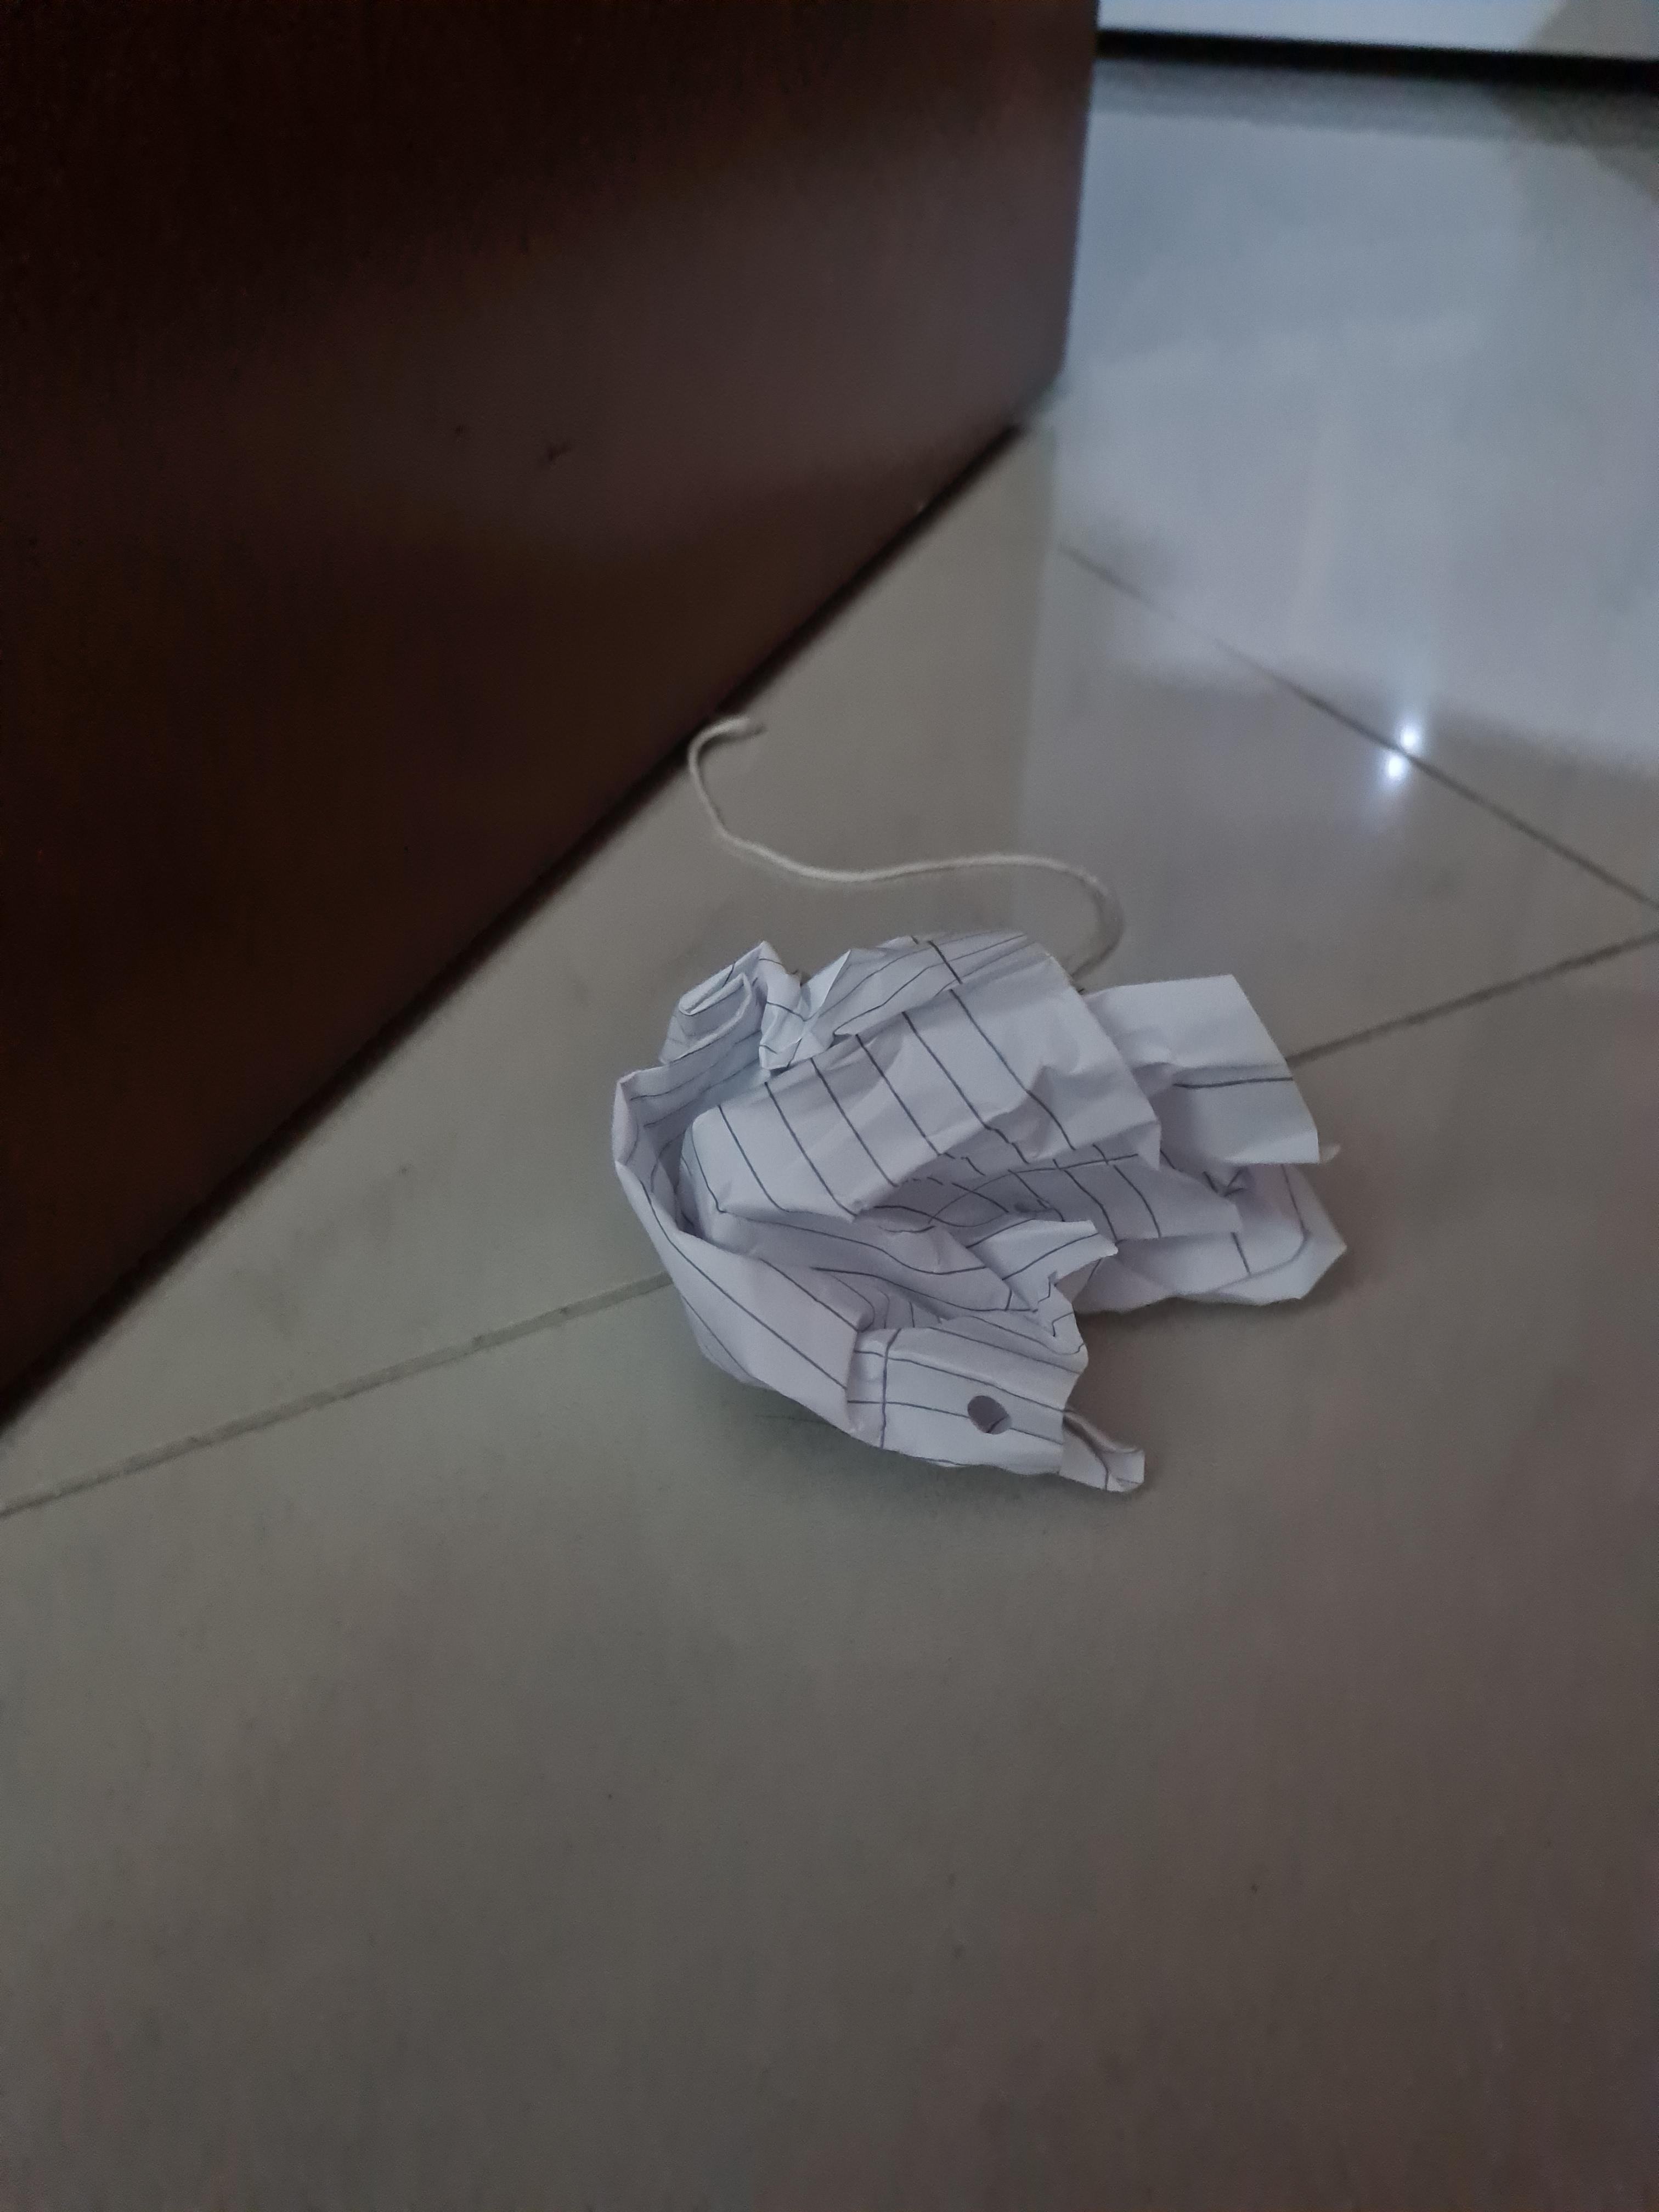Paper: (588, 857, 1341, 1488)
